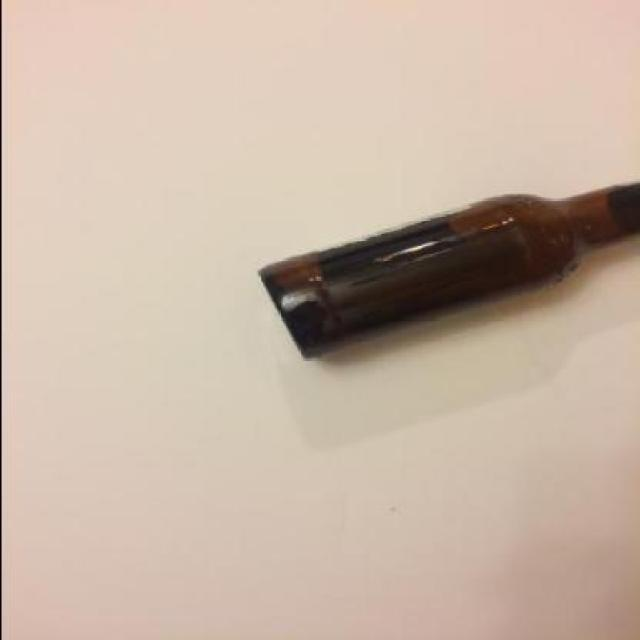glass: (260, 180, 638, 360)
